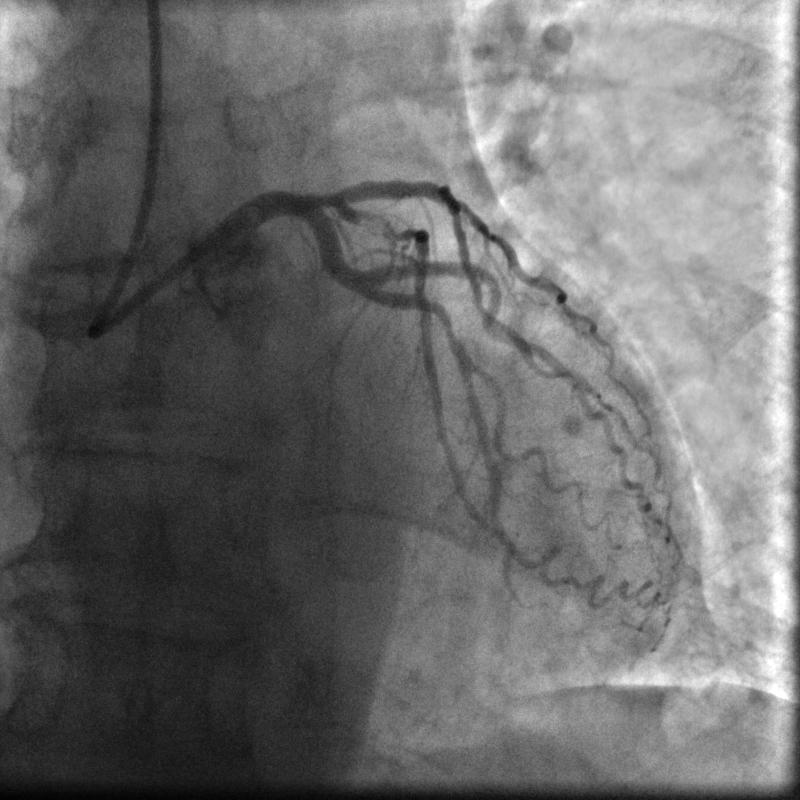Stenosis: (344, 199, 411, 242)
